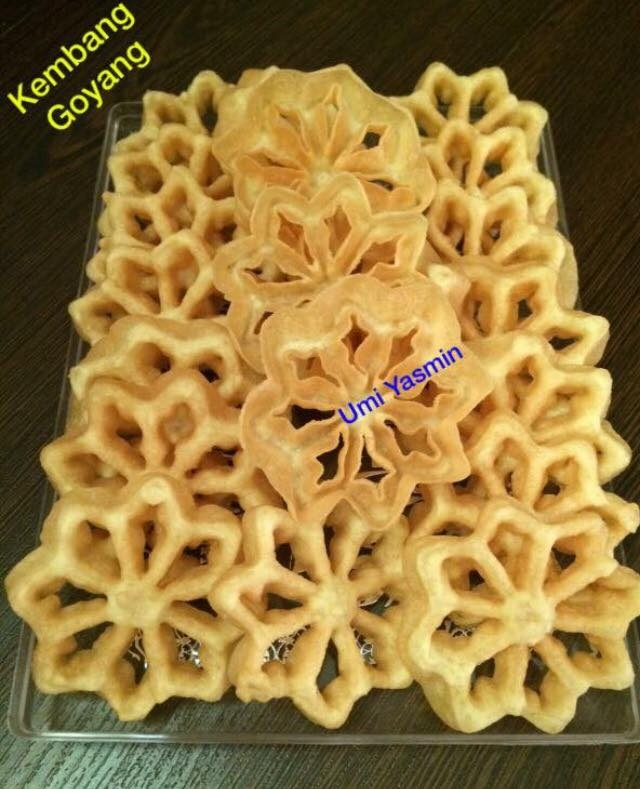kembang_goyang: (21, 486, 261, 733), (421, 475, 640, 740), (219, 500, 421, 722)
